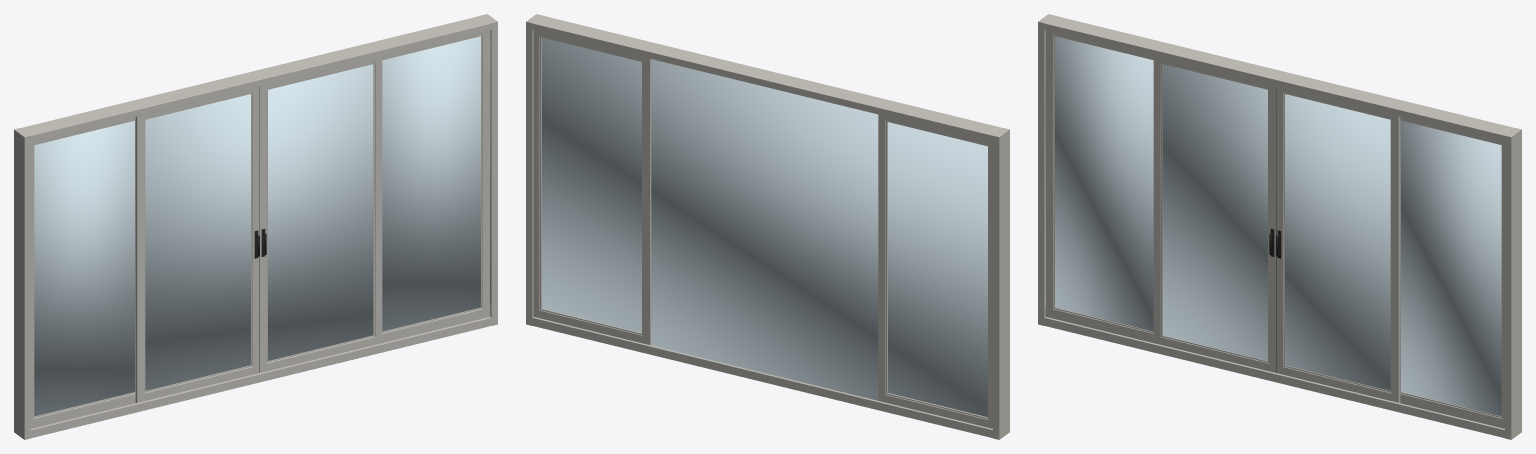
File: glassdoor4.glb
3 renders of one model, left to right at view 1: azimuth 30°, elevation 25°; view 2: azimuth 150°, elevation 25°; view 3: azimuth 330°, elevation 25°, orthographic.
Parts seen in each view (by area): view 1: glass_m, glass_l, glass_r, head, jamb_l, sill, in_m_mid, in_m_sa, in_m_sb, in_r_sb, jamb_r, in_m_low (+4 smaller); view 2: glass_out, head, jamb_l, sill, out_r_sa, out_l_sb, out_r_sb, jamb_r, out_l_sa, out_r_low, out_l_low, out_r_top (+1 smaller); view 3: glass_m, glass_r, glass_l, head, jamb_r, sill, in_m_mid, in_m_sb, in_m_sa, in_l_sa, jamb_l, in_m_low (+4 smaller).
Boxes of the visible parts, box(x1,y1,x2,y2) form: glass_m: box(145, 64, 373, 390); glass_l: box(34, 120, 134, 416); glass_r: box(382, 34, 490, 331); head: box(19, 16, 492, 142); jamb_l: box(14, 128, 30, 439); sill: box(31, 317, 491, 437); in_m_mid: box(251, 85, 267, 374); in_m_sa: box(135, 115, 145, 402); in_m_sb: box(373, 57, 382, 344); in_r_sb: box(481, 30, 489, 317); jamb_r: box(481, 14, 497, 325); in_m_low: box(144, 335, 378, 400); glass_out: box(542, 37, 987, 417); head: box(531, 16, 1004, 142); jamb_l: box(993, 128, 1009, 439); sill: box(532, 317, 992, 437); out_r_sa: box(642, 57, 651, 345); out_l_sb: box(878, 114, 887, 401); out_r_sb: box(533, 30, 541, 317); jamb_r: box(526, 14, 542, 325); out_l_sa: box(988, 142, 992, 420); out_r_low: box(533, 308, 645, 343); out_l_low: box(882, 393, 992, 428); out_r_top: box(535, 31, 645, 61); glass_m: box(1162, 64, 1390, 390); glass_r: box(1401, 120, 1501, 416); glass_l: box(1045, 34, 1153, 331); head: box(1043, 16, 1516, 142); jamb_r: box(1505, 128, 1521, 439); sill: box(1044, 317, 1504, 437); in_m_mid: box(1268, 85, 1284, 366); in_m_sb: box(1390, 115, 1400, 402); in_m_sa: box(1153, 57, 1162, 343); in_l_sa: box(1046, 30, 1054, 317); jamb_l: box(1038, 14, 1054, 325); in_m_low: box(1157, 335, 1391, 400).
Bounding box in the file's own units: 3.6 × 2.2 × 0.157.
